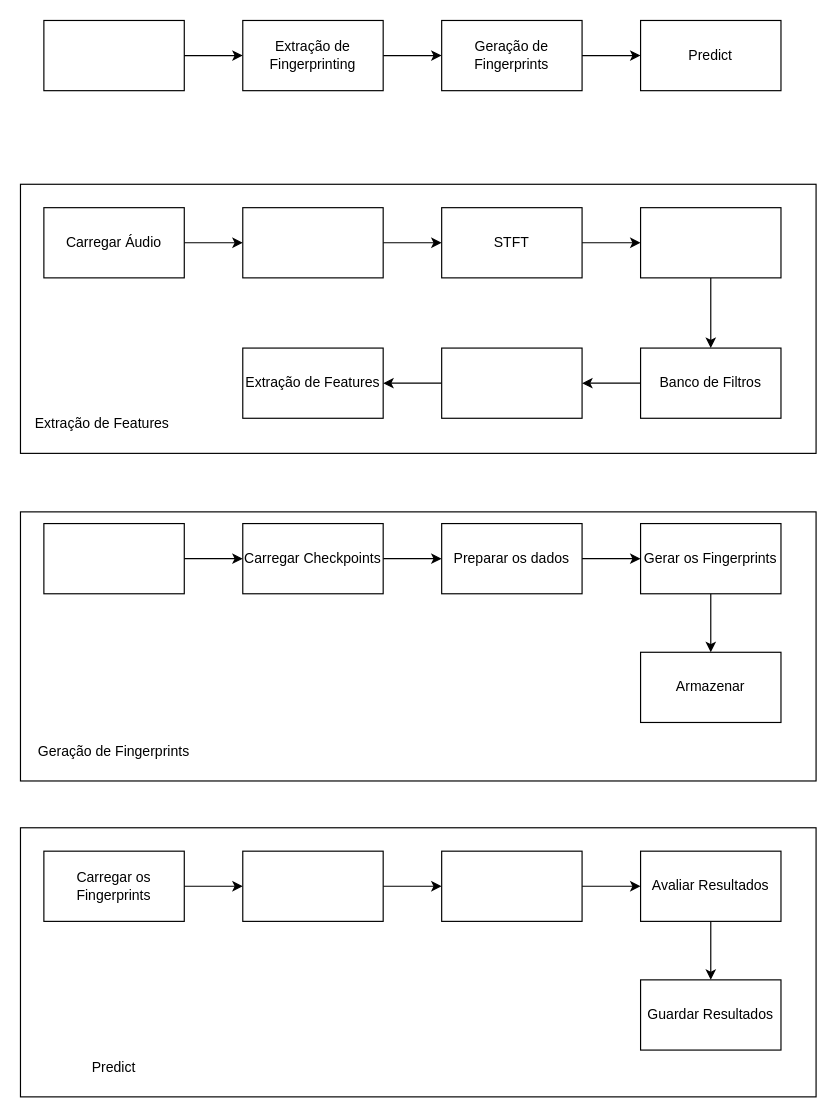
Some shapes in this 837 by 1117 pixel diagram are drawn without their labels. Each missing label, with the centre of its shape:
Arquitetura da rede: (x=511, y=382)
Base de Dados: (x=113, y=55)
Construir Fingerprint: (x=113, y=558)
criar índice Faiss: (x=312, y=885)
Magnitude: (x=710, y=242)
Pesquisa: (x=511, y=885)
Processar o Áudio: (x=312, y=242)
